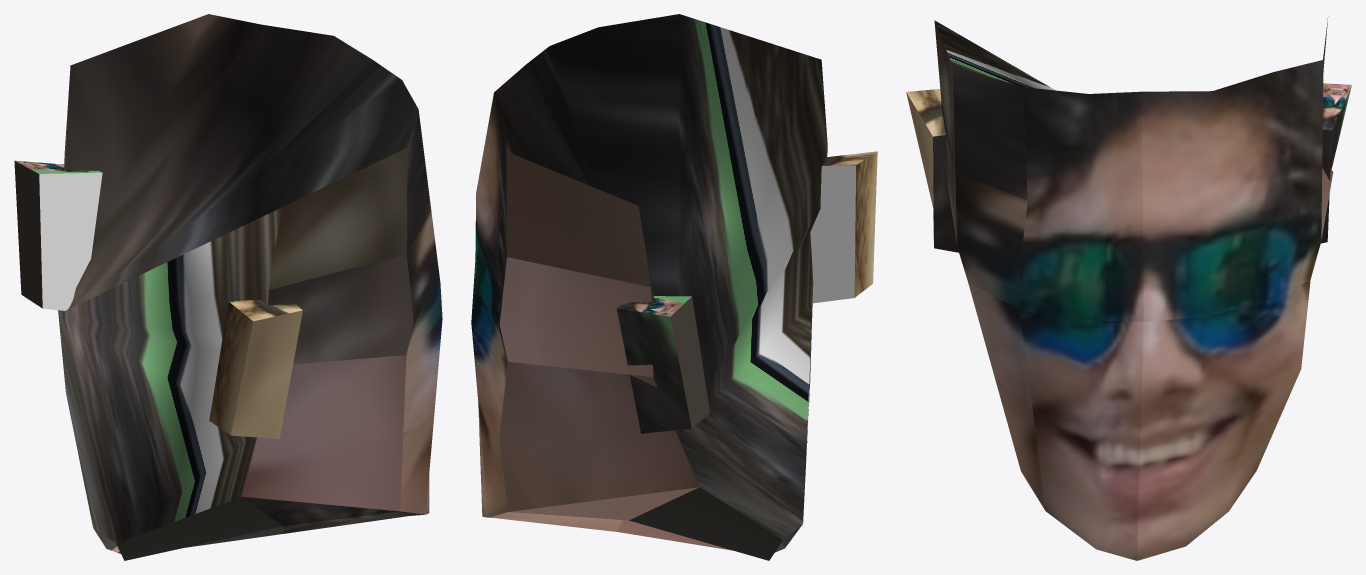
The model's file is shreyasmourya.fbx.
The picture shows the model from 3 angles, left to right: view 1: azimuth 30°, elevation 25°; view 2: azimuth 150°, elevation 25°; view 3: azimuth 270°, elevation 25°; orthographic projection.
Parts seen in each view (by area): view 1: Cylinder; view 2: Cylinder; view 3: Cylinder.
Boxes of the visible parts, x1,y1,x2,y2 form: Cylinder: (14, 14, 442, 560); Cylinder: (471, 14, 877, 560); Cylinder: (906, 16, 1351, 560).
Size of the model in its own units: 59.47 by 82.55 by 74.22.
Materials: 1 (1 with a texture image).
